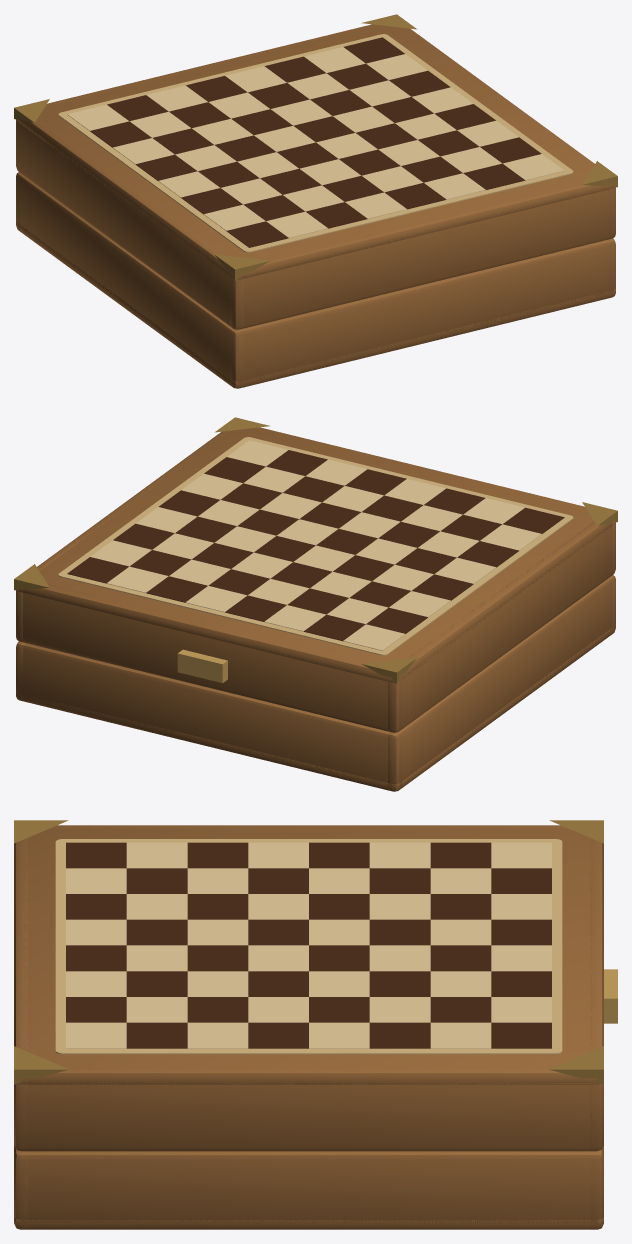
The model's file is chess_set.fbx.
3 renders of one model, top to bottom at view 1: azimuth 30°, elevation 25°; view 2: azimuth 150°, elevation 25°; view 3: azimuth 270°, elevation 25°, orthographic. The views are drawn at different scales.
Visible parts, largest first — view 1: Lid, chess_set; view 2: Lid, chess_set; view 3: Lid, chess_set.
Boxes of the visible parts, x1=… form: Lid: x1=14, y1=14, x2=617, y2=329; chess_set: x1=16, y1=172, x2=615, y2=388; Lid: x1=14, y1=417, x2=617, y2=732; chess_set: x1=16, y1=575, x2=615, y2=791; Lid: x1=14, y1=820, x2=617, y2=1151; chess_set: x1=14, y1=1145, x2=603, y2=1229.
Size of the model in its own units: 0.17 by 0.0518 by 0.174.
